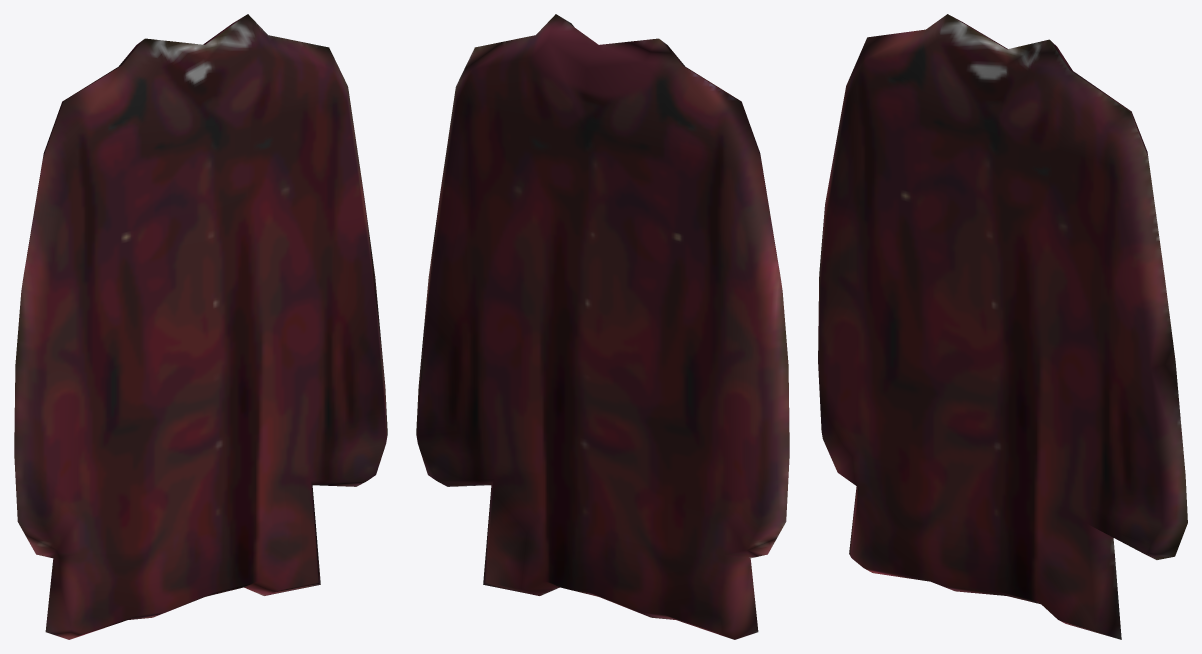
The model's file is prop_fuku06.fbx.
The picture shows the model from 3 angles, left to right: view 1: azimuth 30°, elevation 25°; view 2: azimuth 150°, elevation 25°; view 3: azimuth 330°, elevation 25°; orthographic projection.
Parts seen in each view (by area): view 1: prop_fuku06; view 2: prop_fuku06; view 3: prop_fuku06.
Boxes of the visible parts, <box> form: prop_fuku06: <box>14,14,387,639</box>; prop_fuku06: <box>416,14,789,639</box>; prop_fuku06: <box>818,14,1187,639</box>.
Bounding box in the file's own units: 0.533 × 0.8032 × 0.0583.
